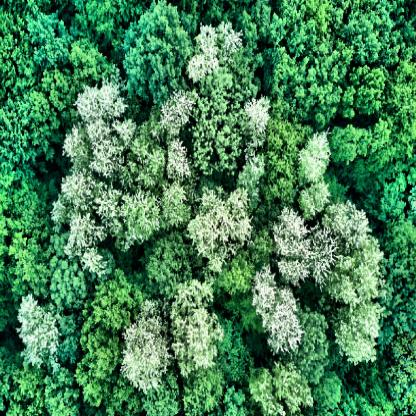tree-top: (122, 3, 189, 102), (80, 273, 127, 410), (322, 197, 382, 301), (70, 86, 131, 186), (0, 173, 49, 292), (274, 51, 348, 128), (192, 185, 251, 272), (169, 279, 221, 377), (58, 169, 113, 259), (0, 87, 56, 174), (250, 266, 302, 359), (193, 85, 240, 182), (120, 312, 174, 390), (246, 360, 317, 416), (0, 3, 37, 104), (330, 302, 384, 366), (17, 294, 60, 374), (145, 230, 192, 303), (378, 257, 416, 344), (49, 242, 94, 315), (264, 110, 298, 206), (121, 124, 166, 196), (339, 0, 393, 60), (385, 61, 416, 158), (291, 306, 326, 385), (29, 0, 67, 70), (186, 21, 236, 74), (326, 126, 388, 167), (342, 63, 384, 123), (385, 339, 416, 416), (120, 186, 157, 246), (372, 164, 410, 222), (84, 0, 129, 47), (253, 0, 298, 46), (181, 373, 228, 416), (43, 362, 79, 416), (4, 369, 45, 416), (43, 67, 80, 116), (310, 365, 344, 416), (144, 371, 182, 416), (274, 208, 306, 261), (158, 179, 191, 230), (58, 303, 82, 372), (157, 89, 193, 135), (71, 41, 106, 88), (231, 50, 263, 100), (164, 137, 198, 184), (302, 130, 330, 187), (243, 95, 274, 145), (385, 210, 416, 254), (300, 0, 338, 34), (305, 226, 328, 282), (359, 381, 394, 416), (242, 152, 265, 204), (295, 183, 327, 219), (276, 254, 305, 288), (226, 383, 248, 416)
